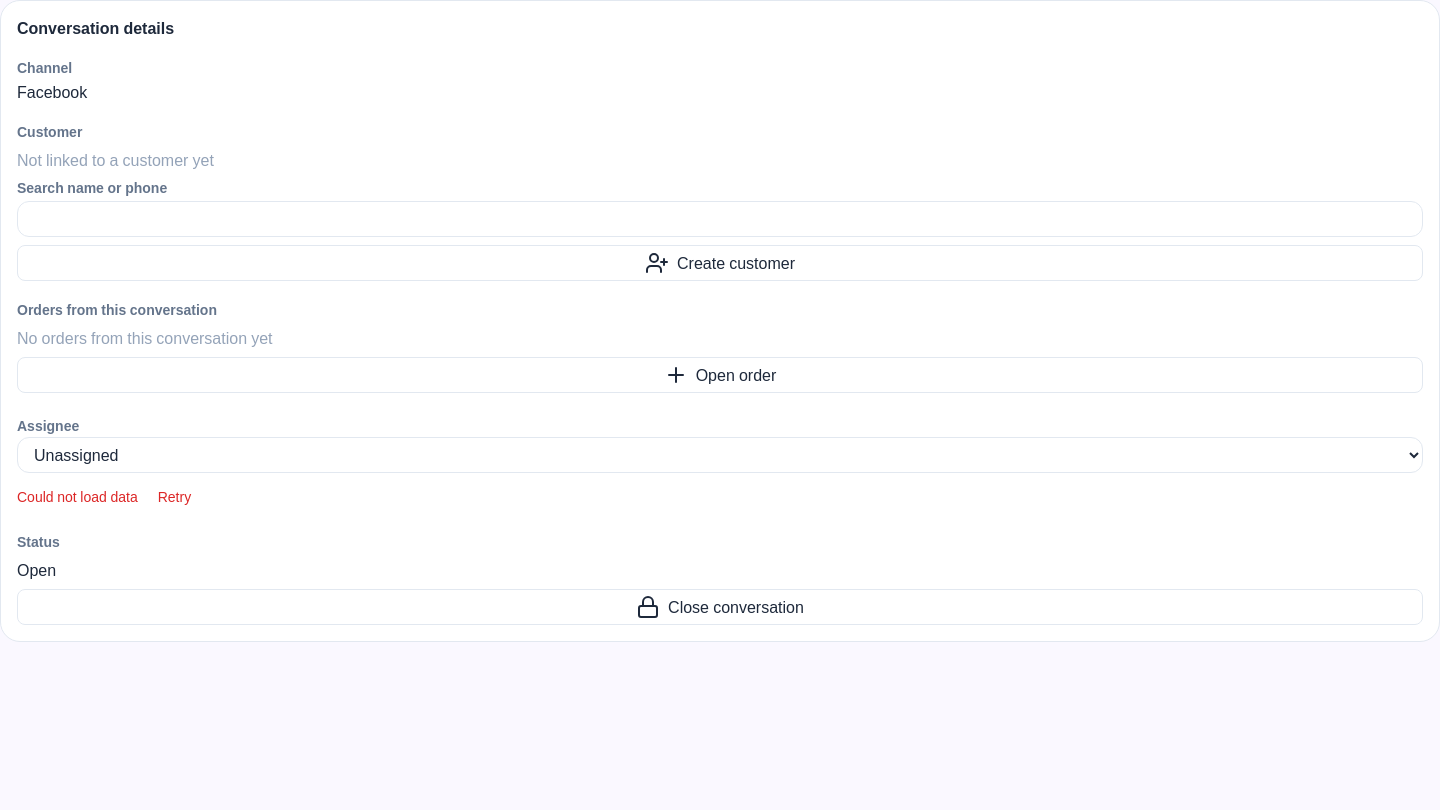
SidePanel › ໂຫຼດລາຍຊື່ຜູ້ຮັບ › ໂຫຼດບໍ່ສຳເລັດ: ສະແດງຂໍ້ຄວາມ + ປຸ່ມ Retry ທີ່ໂຫຼດໃໝ່
This screenshot has width=1440, height=810.
Expected: the text "Could not load data" is shown, top-left (17, 485), bottom-right (138, 508)
Click the button "Retry": (174, 497) top-left (146, 481), bottom-right (203, 513)
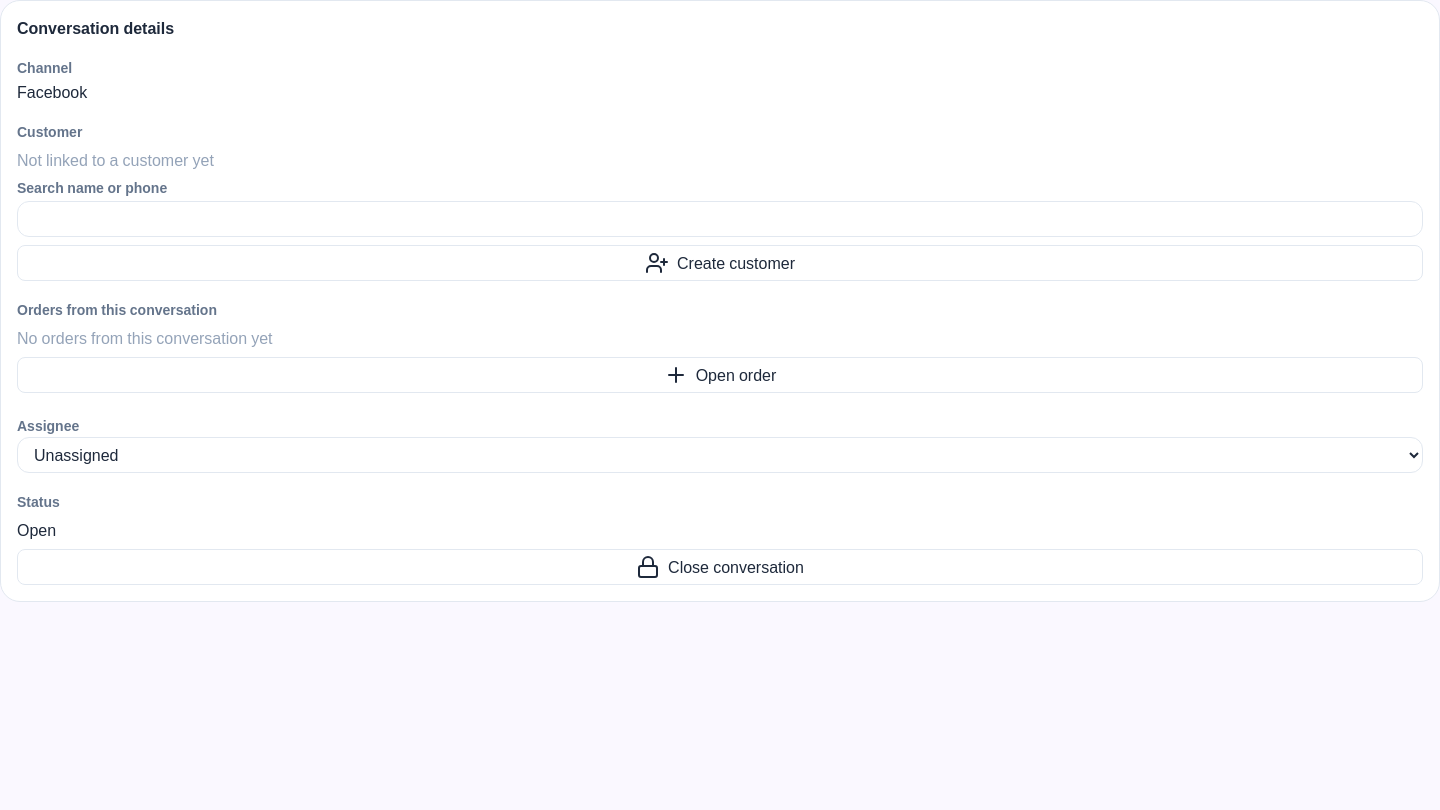
Result: the text "Could not load data" is gone
